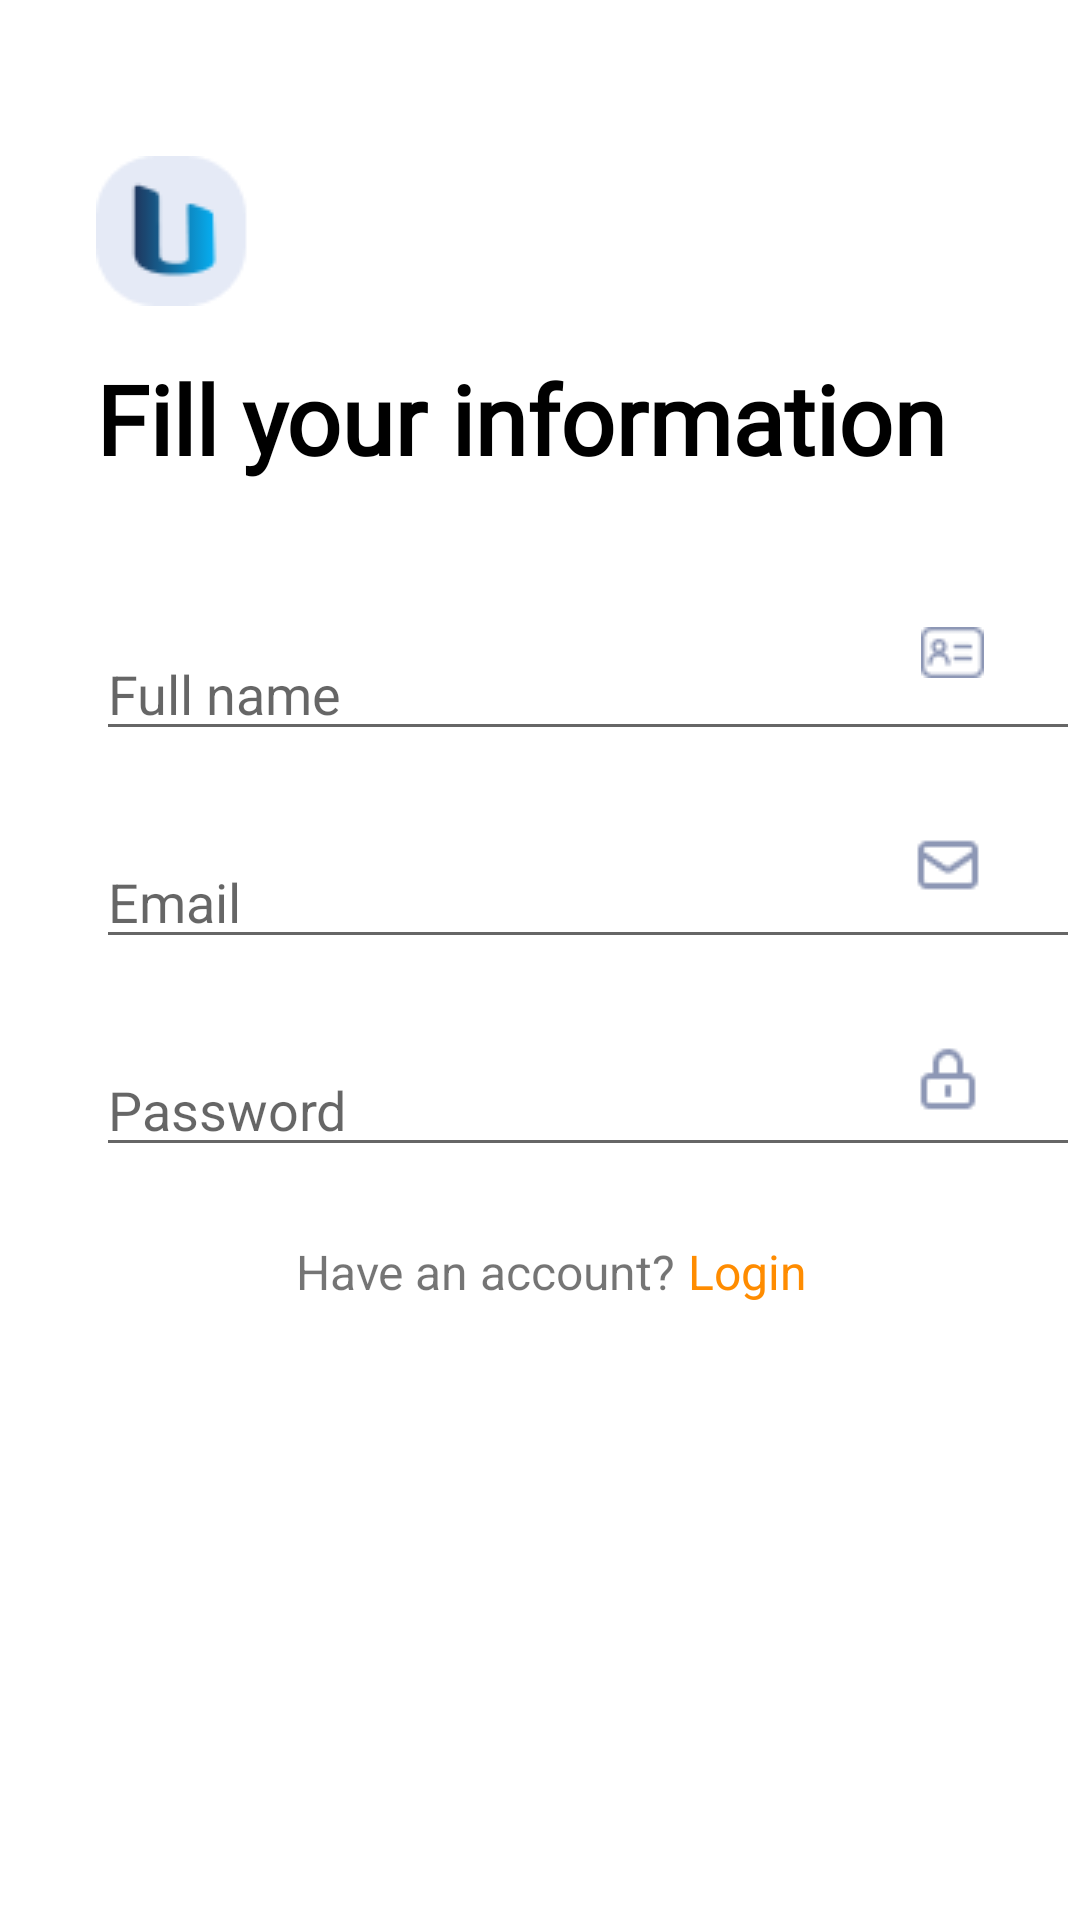

Screen size 1080 x 1920. Icon name, then its box in pixels as region(x1, y1, x2, y2):
infocard: region(921, 627, 984, 678)
lock: region(920, 1048, 976, 1110)
